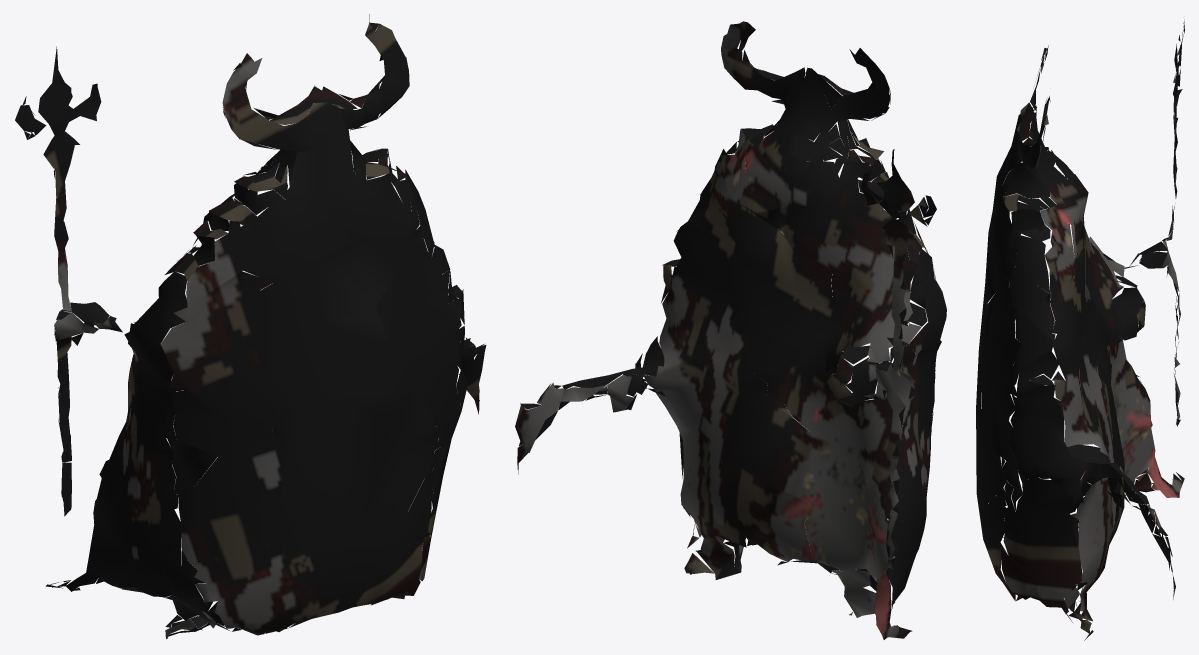
3 renders of one model, left to right at view 1: azimuth 30°, elevation 25°; view 2: azimuth 150°, elevation 25°; view 3: azimuth 270°, elevation 25°, orthographic. The views are drawn at different scales.
Parts seen in each view (by area): view 1: body.002; view 2: body.002; view 3: body.002.
Boxes of the visible parts, <box> form: body.002: <box>15,14,486,639</box>; body.002: <box>515,21,946,639</box>; body.002: <box>976,19,1184,640</box>.
Bounding box in the file's own units: 1.6 × 2.01 × 0.7114.
Materials: 1 (1 with a texture image).
